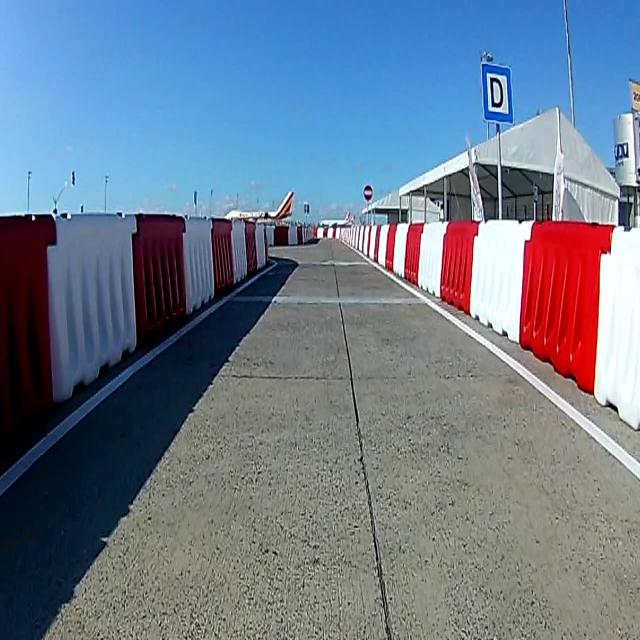durak: (480, 63, 514, 126)
girisyok: (362, 184, 374, 200)
